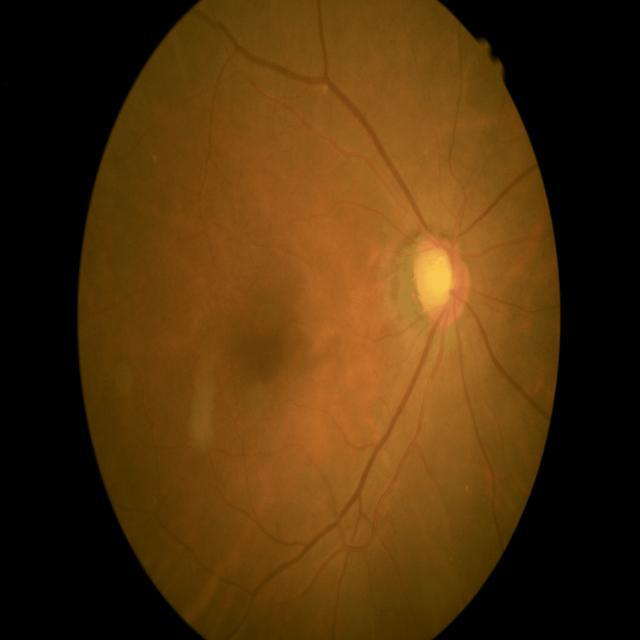cup: (417, 248, 458, 311)
disk: (416, 236, 470, 326)
